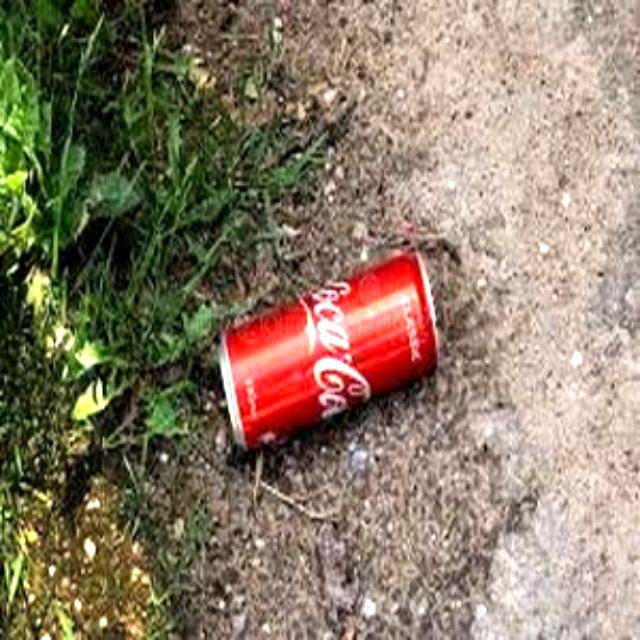Metal: (217, 244, 438, 451)
